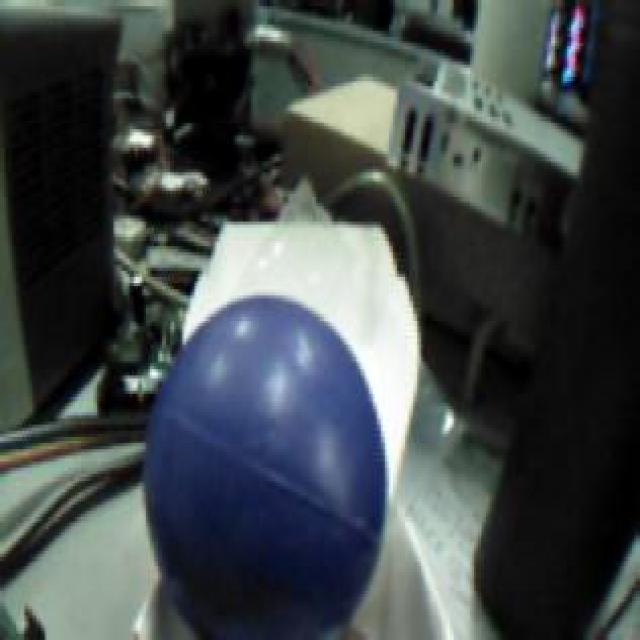BallPurple: (146, 293, 388, 632)
